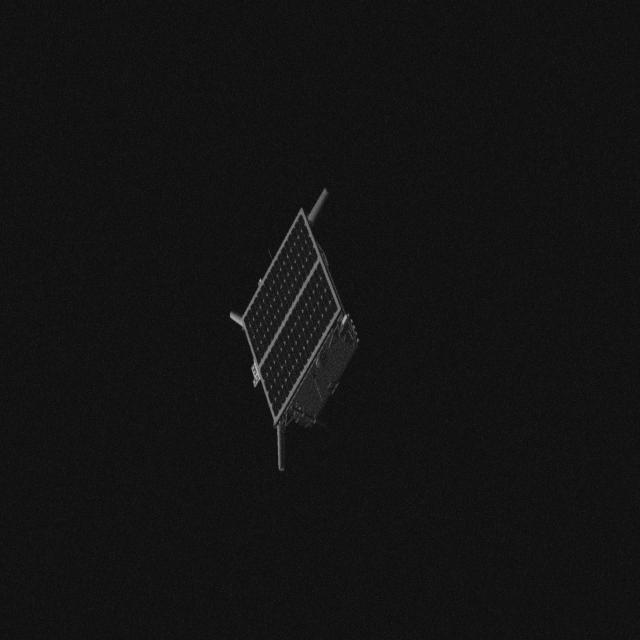satellite: (222, 182, 368, 472)
